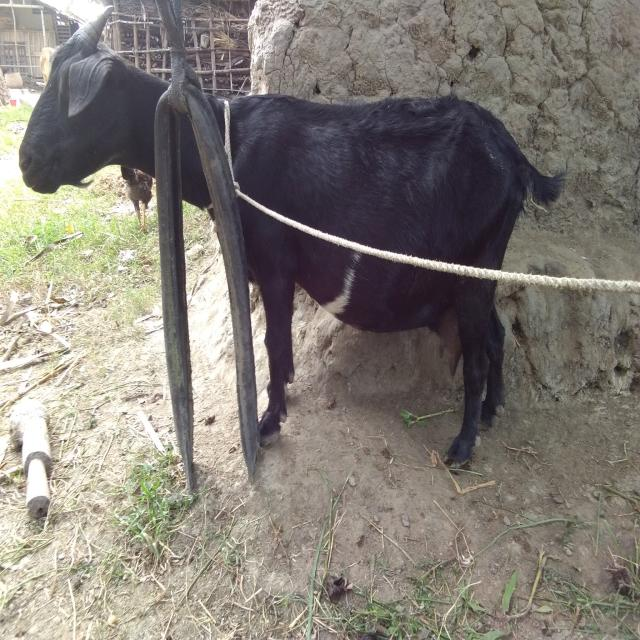not_pig: (18, 6, 567, 476), (120, 164, 154, 233)
